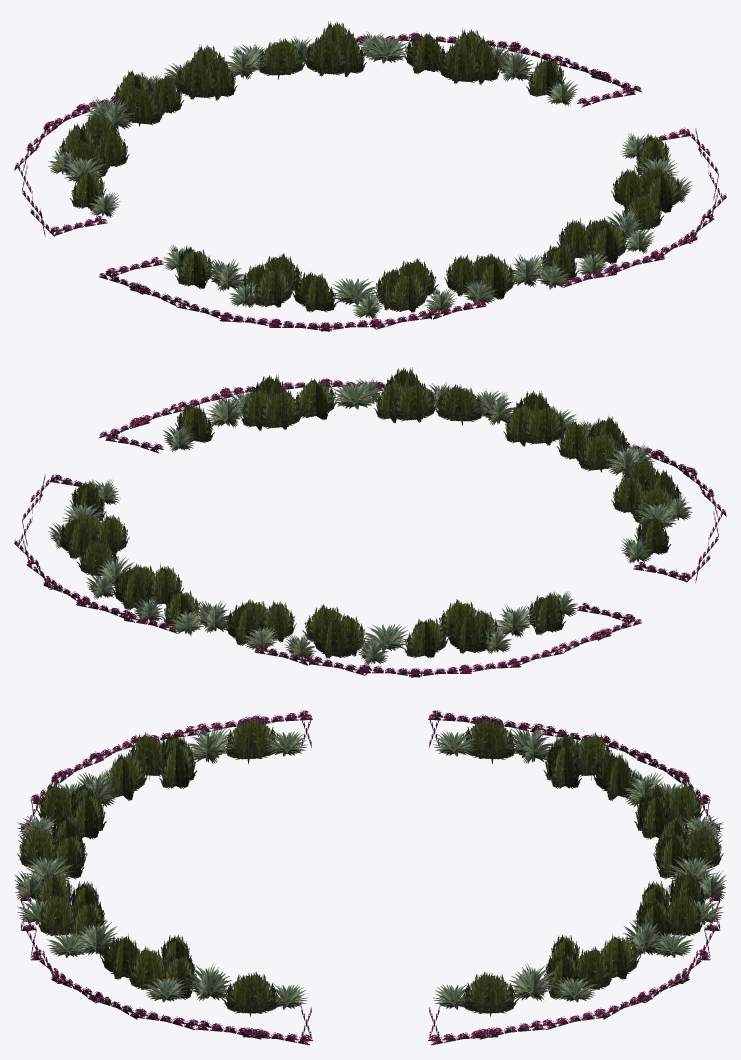
3 renders of one model, top to bottom at view 1: azimuth 30°, elevation 25°; view 2: azimuth 150°, elevation 25°; view 3: azimuth 270°, elevation 25°, orthographic. The views are drawn at different scales.
Visible parts, largest first — view 1: Cylinder03; view 2: Cylinder03; view 3: Cylinder03.
Part boxes in pixels (x1,y1,x2,y2): Cylinder03: [14, 21, 726, 331]; Cylinder03: [14, 367, 726, 677]; Cylinder03: [14, 710, 726, 1045].
Bounding box in the file's own units: 70.67 × 5.07 × 64.51.
